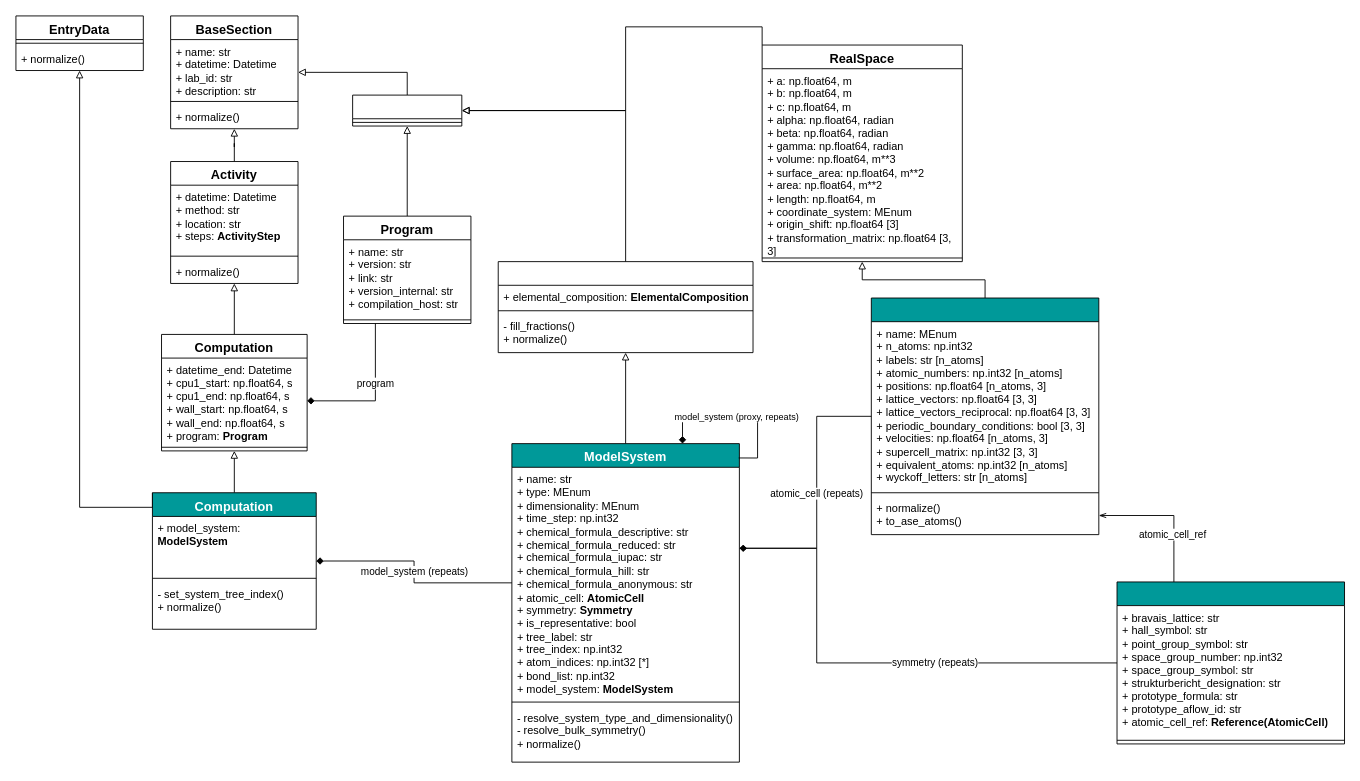
Image size: 1360x781. Some labels were removed from this diagram. The shapes that lost their labels are listed below. From the top down, each one's box as (x1, y1, x2, y2) in pixels, then its label:
(352, 94, 462, 126): Entity
(497, 261, 753, 353): System
(870, 297, 1099, 535): AtomicCell
(1116, 581, 1345, 744): Symmetry
